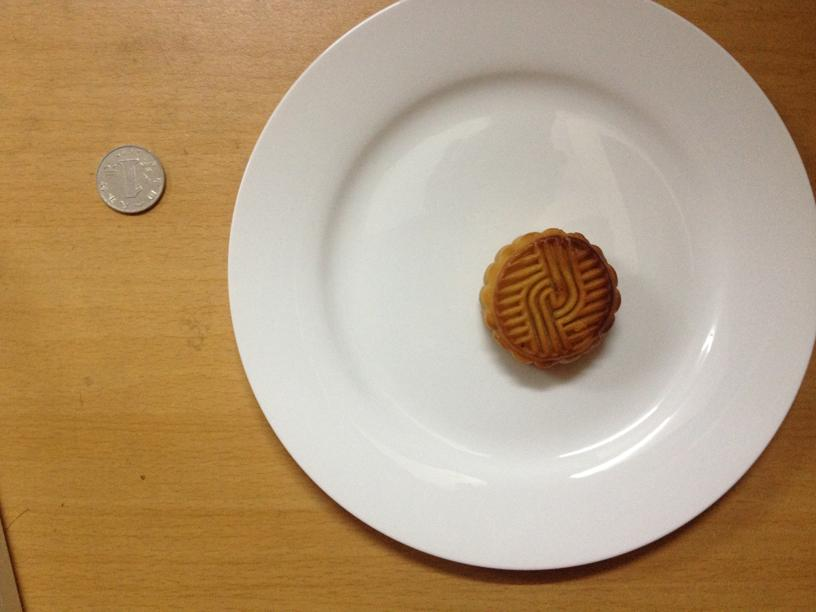coin: (91, 145, 167, 215)
mooncake: (487, 231, 620, 367)
